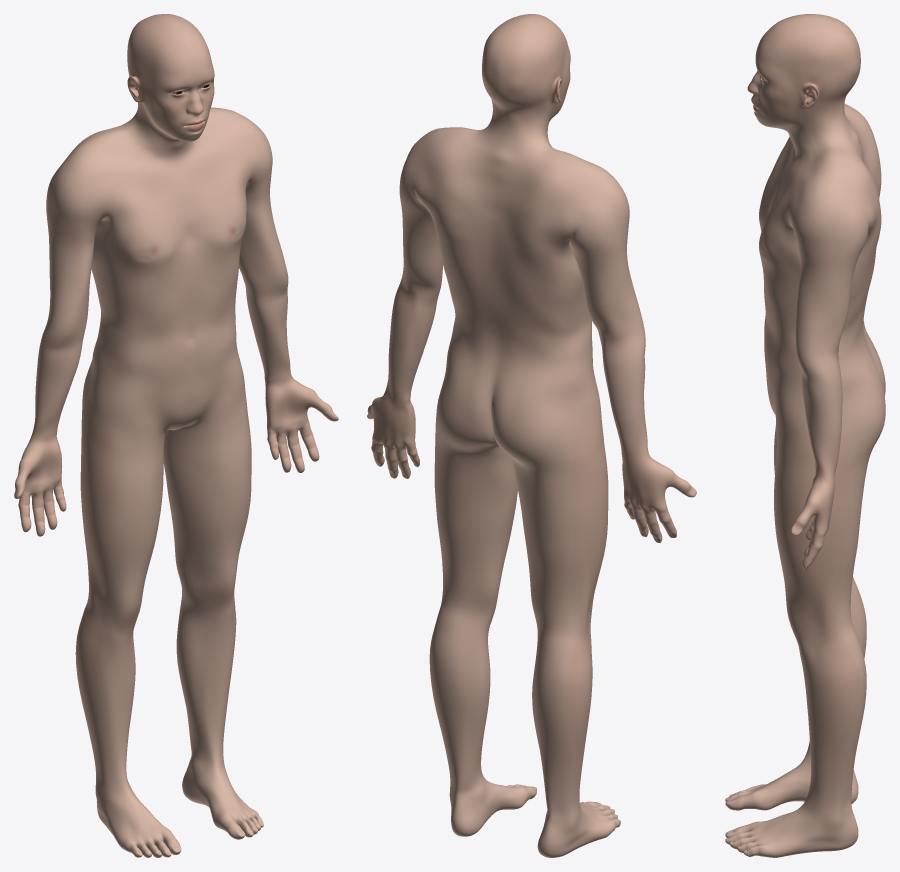
The model's file is Anato3D_Male_30_Fase2_draco.glb.
3 renders of one model, left to right at view 1: azimuth 30°, elevation 25°; view 2: azimuth 150°, elevation 25°; view 3: azimuth 270°, elevation 25°, orthographic.
Parts seen in each view (by area): view 1: Skin_Body; view 2: Skin_Body; view 3: Skin_Body.
Part boxes in pixels (x1=…): Skin_Body: x1=14, y1=14, x2=338, y2=857; Skin_Body: x1=367, y1=14, x2=696, y2=857; Skin_Body: x1=725, y1=14, x2=885, y2=857.
Size of the model in its own units: 0.7206 by 1.72 by 0.3076.
9 materials, 8 textured.
